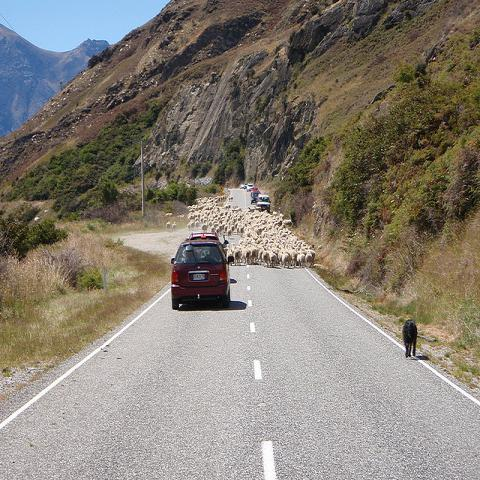car: (171, 241, 234, 310), (256, 194, 272, 212), (251, 192, 260, 204), (251, 187, 258, 195), (240, 183, 247, 188)
